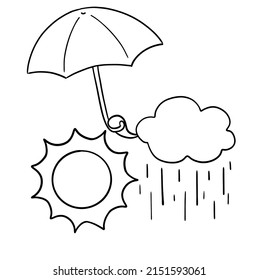cloud: (135, 95, 237, 164)
sun: (30, 127, 139, 234)
